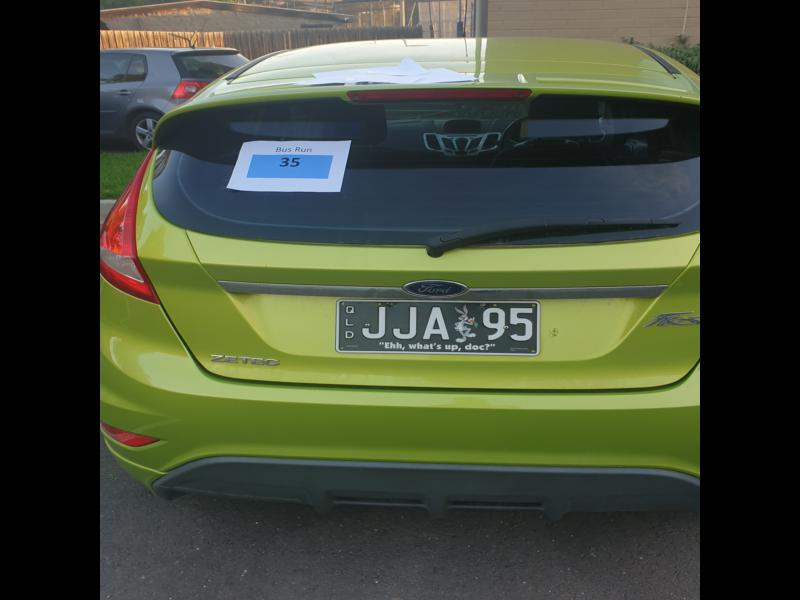BusRun: (251, 155, 331, 181)
PlateNo: (338, 300, 537, 352)
